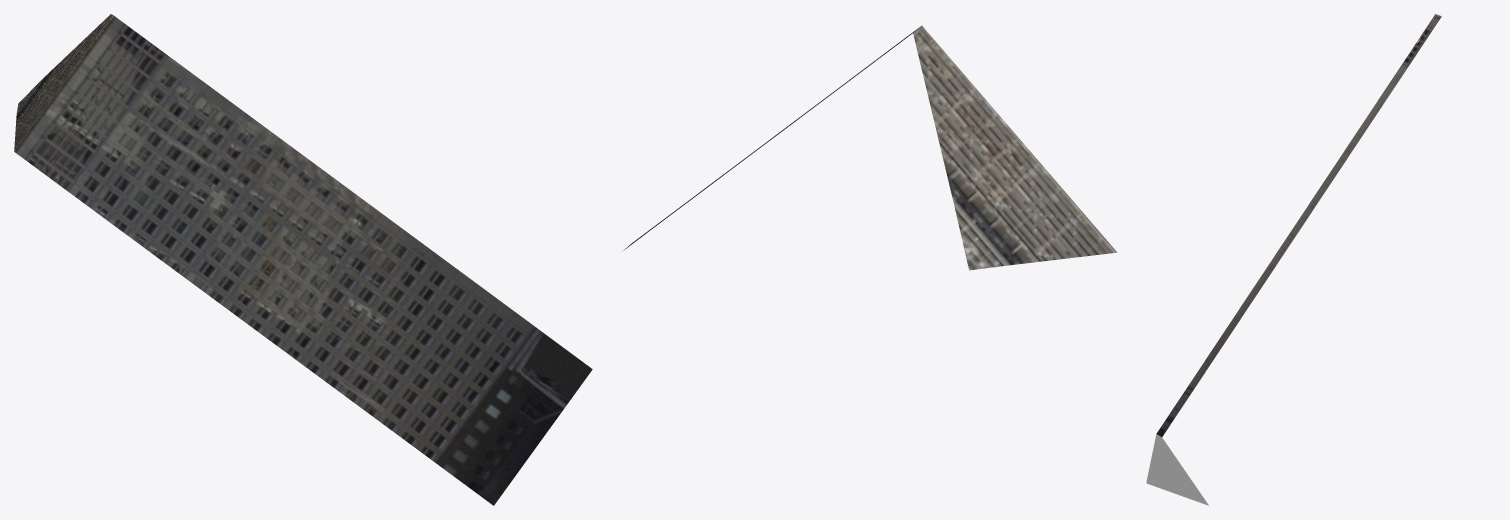
File: 39549_bldg_Building.glb
The picture shows the model from 3 angles, left to right: view 1: azimuth 30°, elevation 25°; view 2: azimuth 150°, elevation 25°; view 3: azimuth 270°, elevation 25°; orthographic projection. The views are drawn at different scales.
Size of the model in its own units: 85.55 by 80.88 by 68.24.
Materials: 3 (2 with a texture image).
